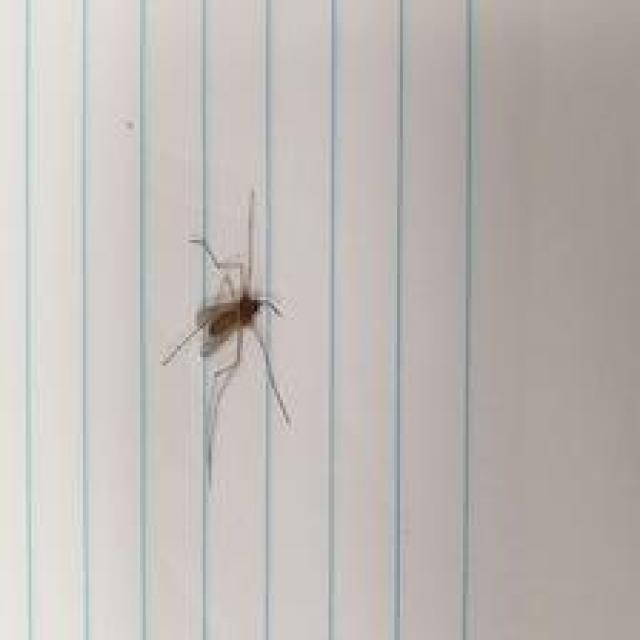Culex: (158, 186, 293, 497)
